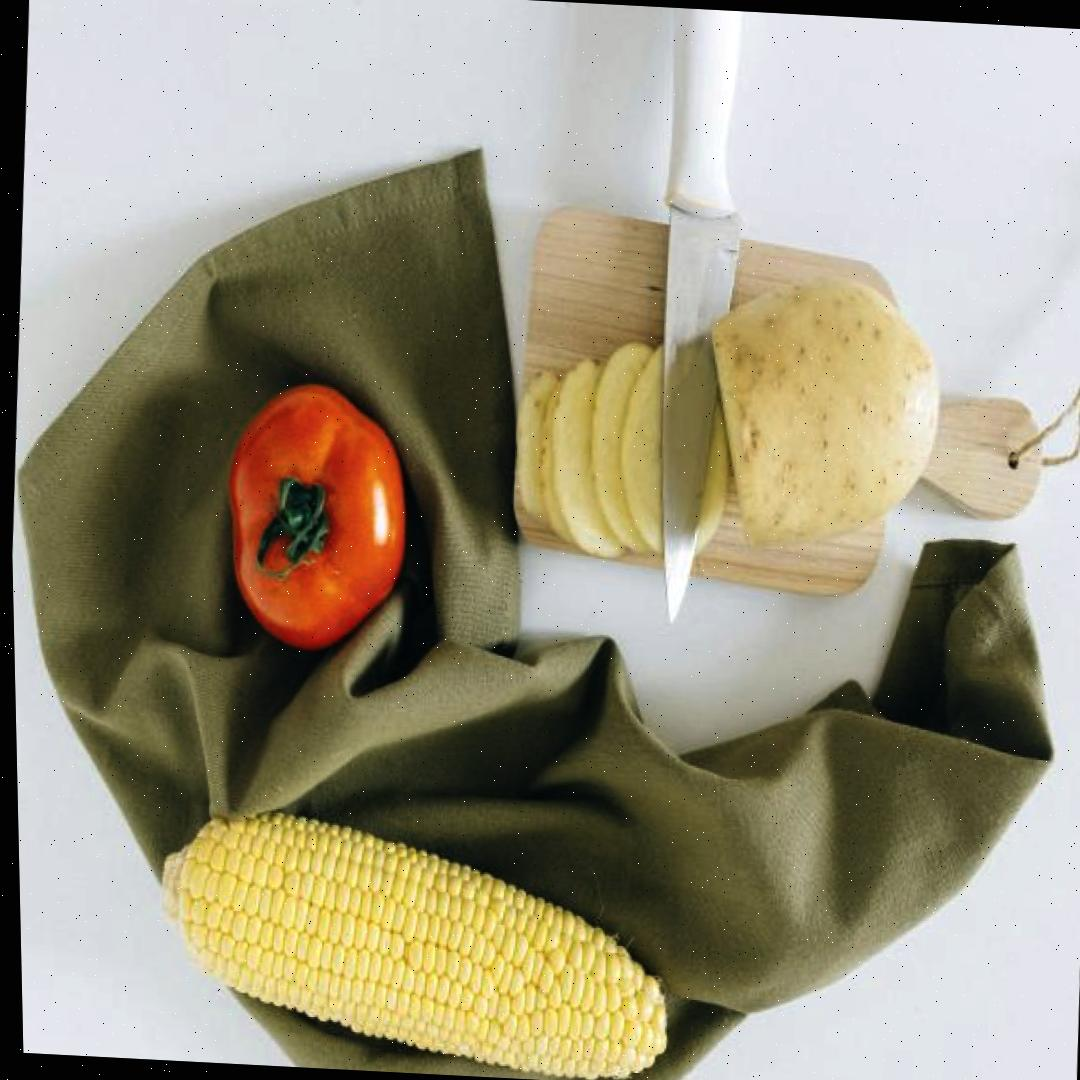matang: (216, 378, 418, 653)
